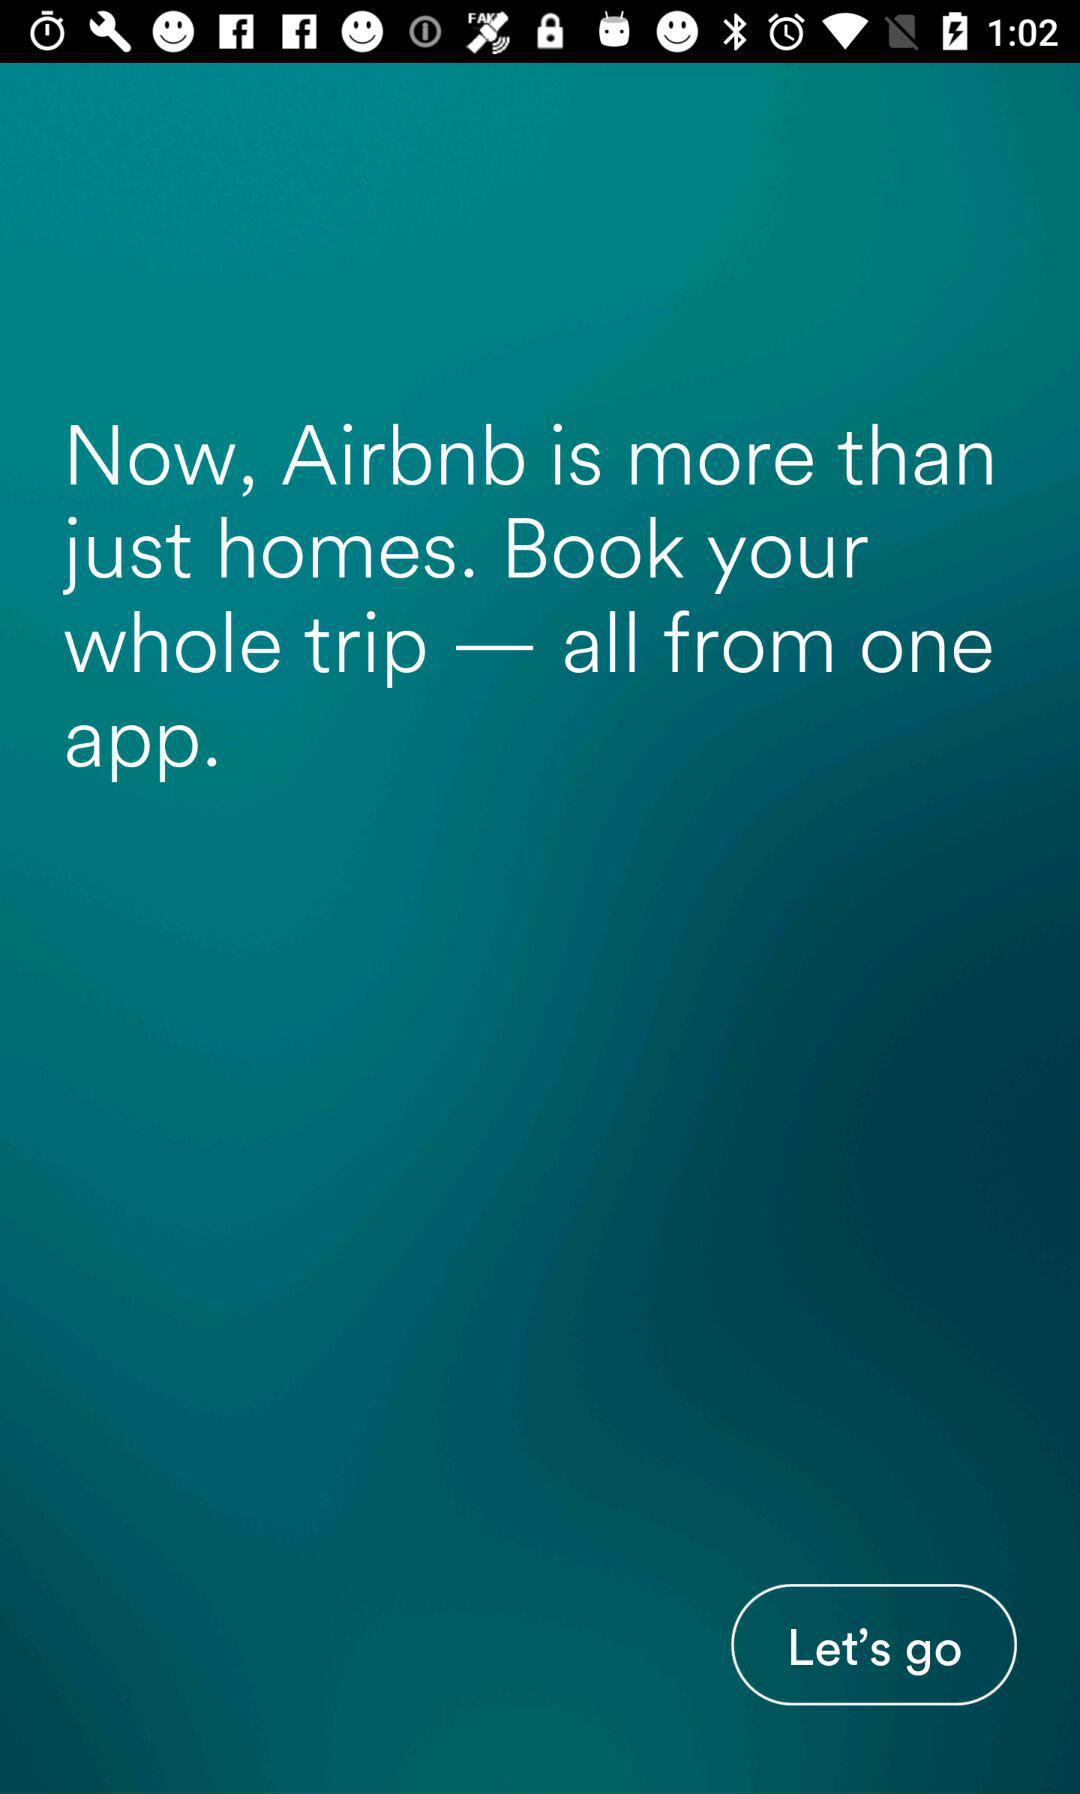Text: (61, 423, 993, 784)
TextButton: (730, 1583, 1019, 1707)
UpperTaskBar: (1, 1, 1080, 64)
